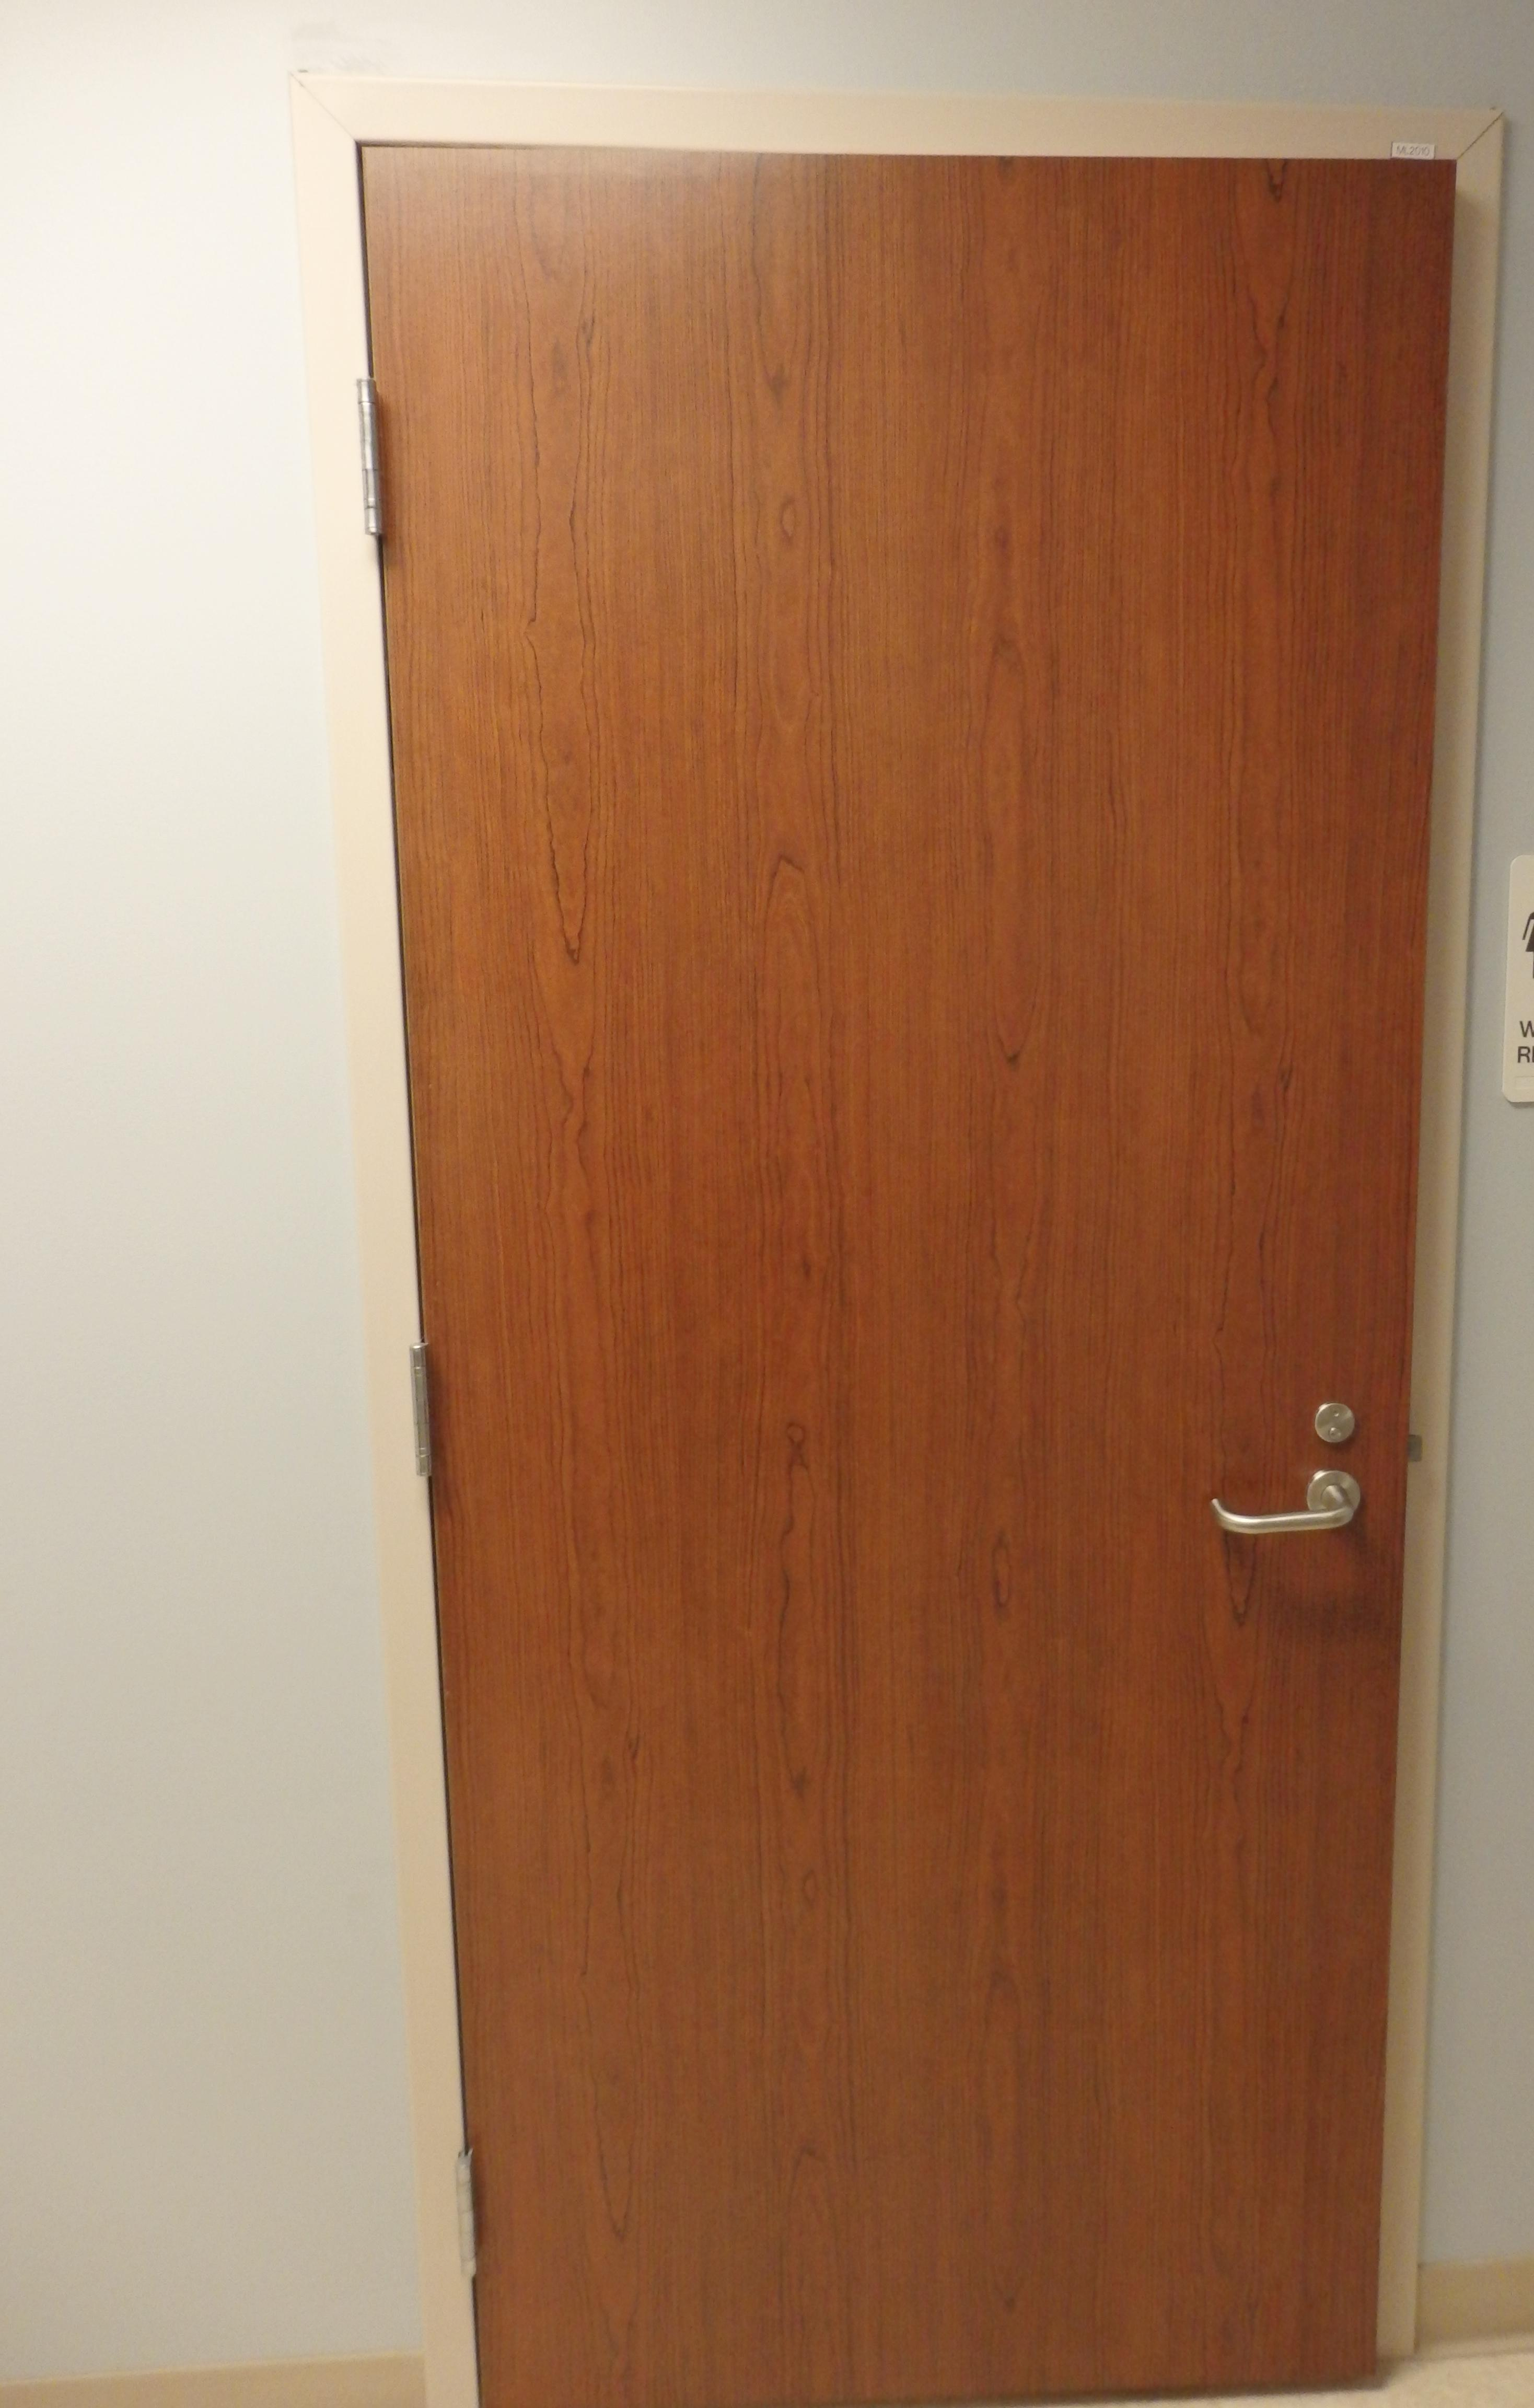door: (344, 139, 1474, 2378)
